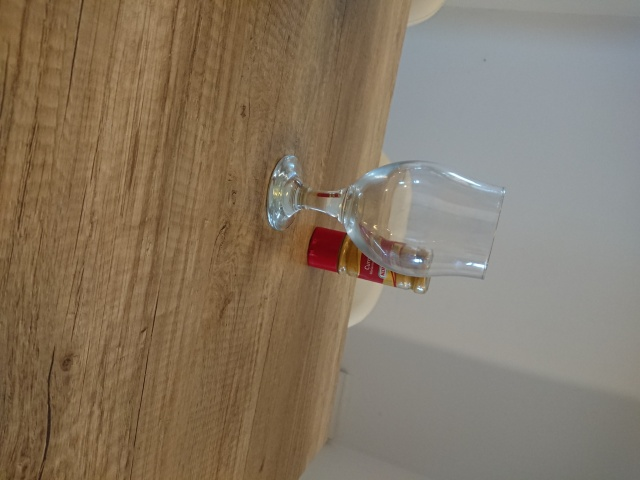Kotanyi Curry Spices Mix 70g: (305, 224, 436, 296)
